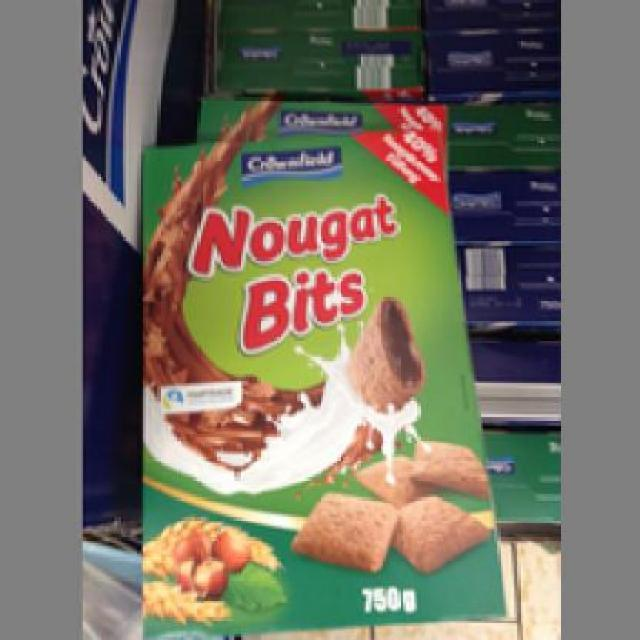Cereal: (130, 122, 507, 638)
